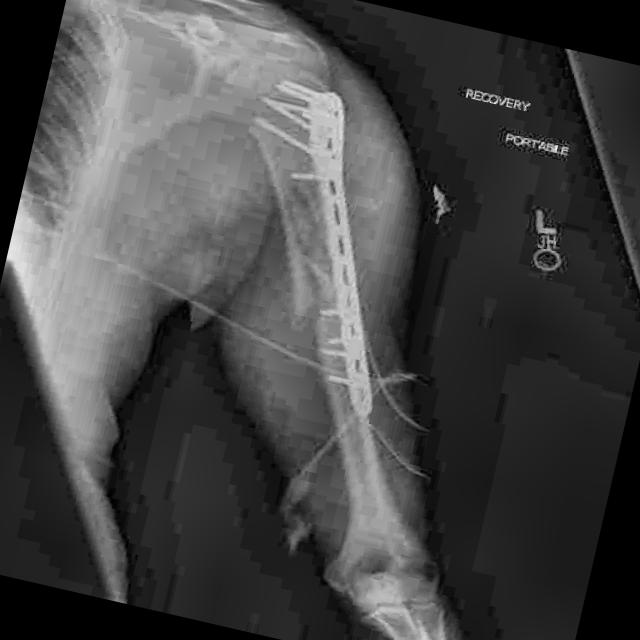shoulder fracture: (268, 195, 346, 333)
